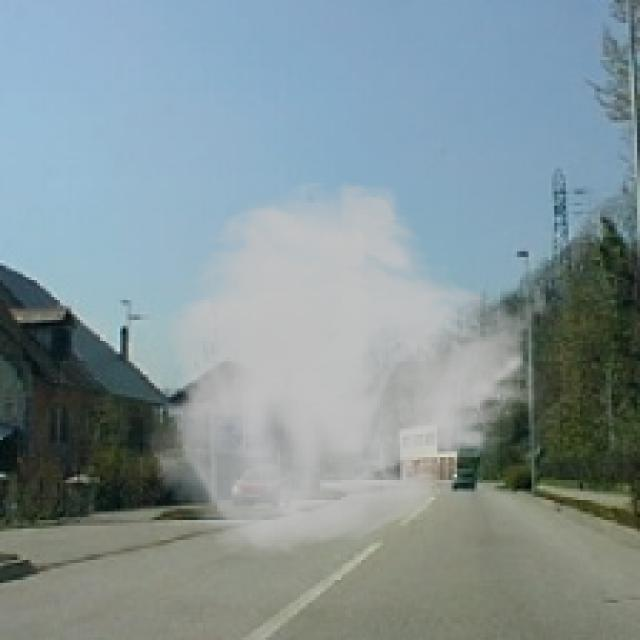Smoke: (146, 177, 554, 560)
